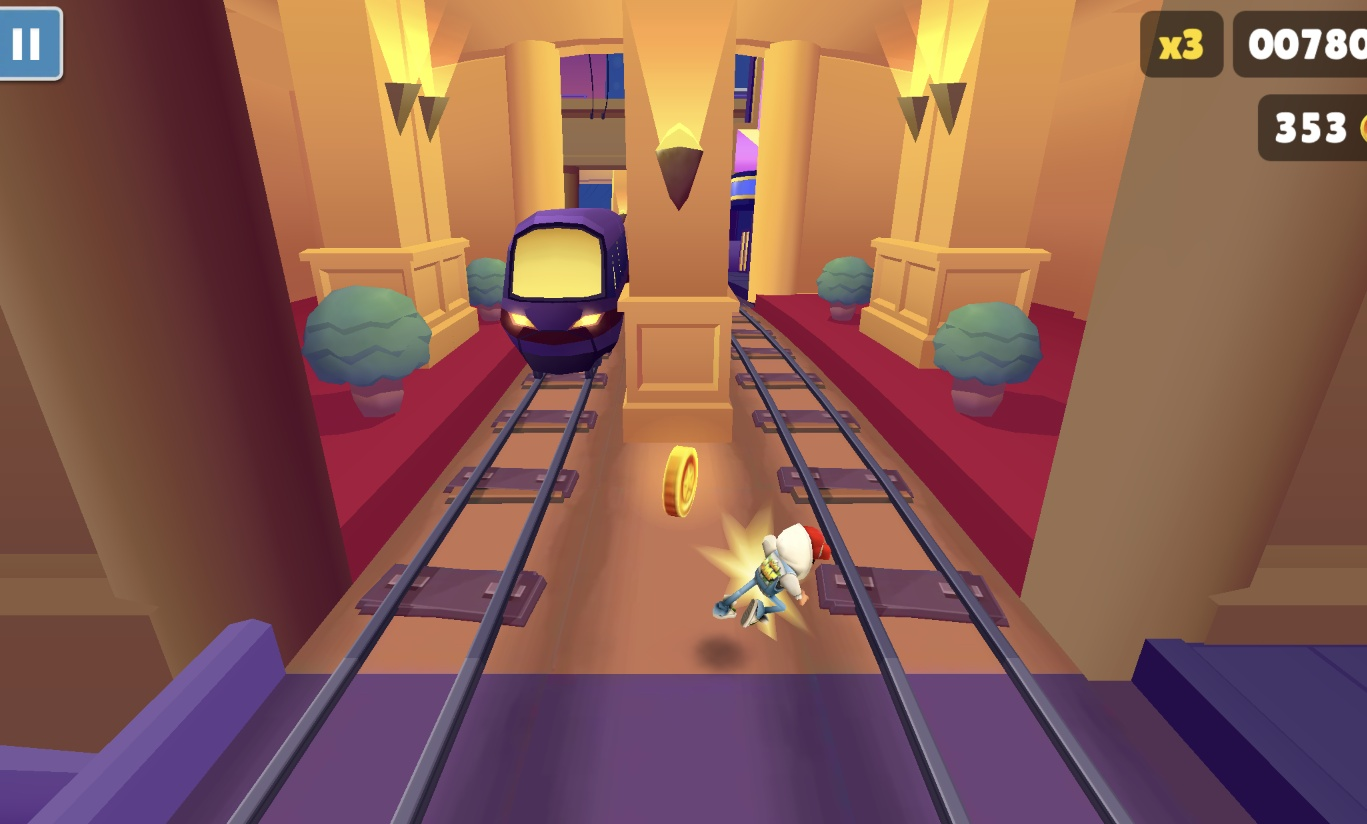pillar: (617, 0, 737, 445)
train: (499, 208, 630, 382)
